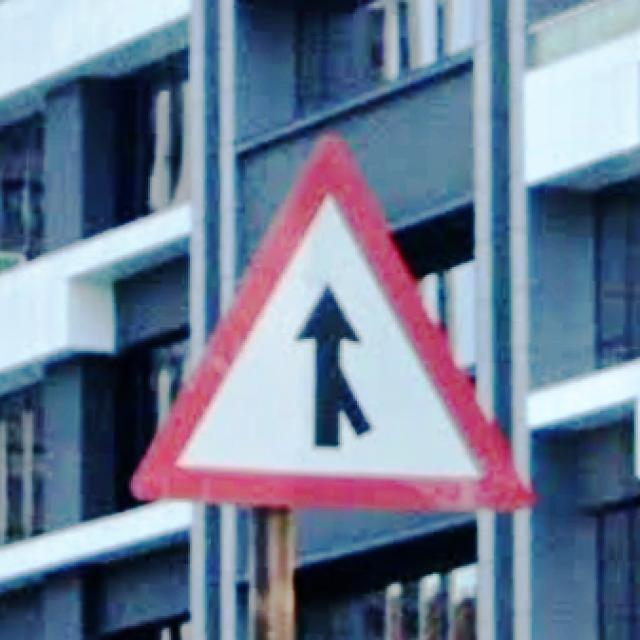rightmerge: (120, 122, 536, 508)
